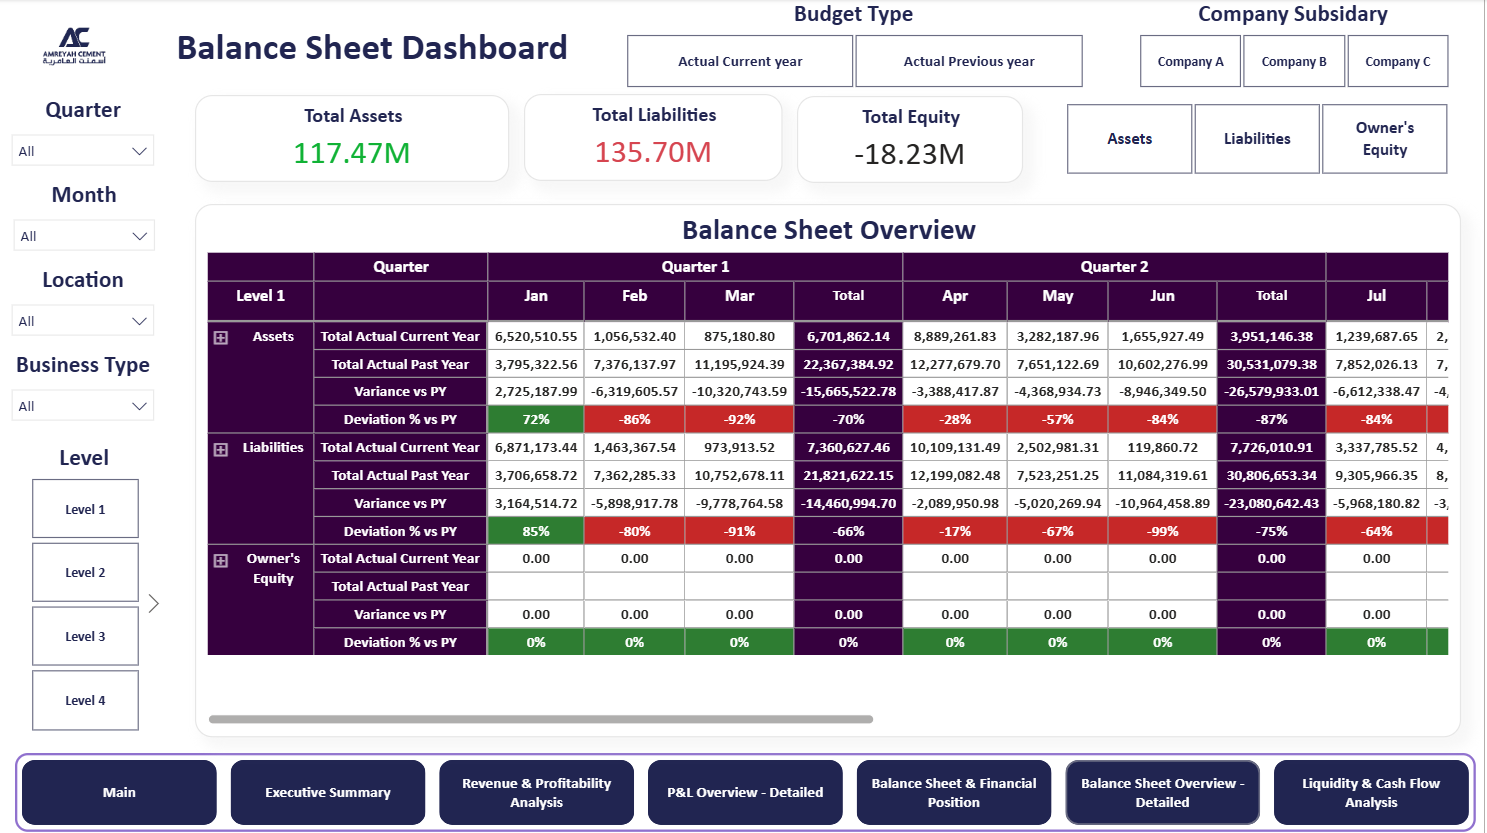

Layout of this report page (visuals, bound fields, positions):
{"tool":"powerbi","page":{"name":"Balance Sheet & Financial Position","canvas":[1280,720],"ordinal":4},"visuals":[{"type":"textbox","box":[127.5,0,387.2,82.4],"z":0,"group":"g1"},{"type":"pageNavigator","title":"Report Pages","box":[13,650,1260,68],"z":0},{"type":"group","id":"g1","title":"Group 1","box":[0,0,514.7,82.4],"z":1000},{"type":"image","box":[0,0,127.5,82.4],"z":1000,"group":"g1"},{"type":"slicer","title":"Budget Type","fields":{"Values":["Budget Type.Name"]},"box":[514.6,0,443,83.1],"z":2000},{"type":"slicer","title":"Company Subsidary","fields":{"Values":["Data Table.Company Subsidary"]},"box":[957.4,0,316,83.3],"z":3000},{"type":"slicer","title":"Quarter","fields":{"Values":["Calendar.Quarter"]},"box":[0,83.1,143.3,73.3],"z":4000},{"type":"slicer","title":"Month","fields":{"Values":["Calendar.MonthName"]},"box":[1.6,156.3,141.7,73.3],"z":5000},{"type":"slicer","title":"Location","fields":{"Values":["Data Table.Location"]},"box":[0,229.6,143.3,73.3],"z":6000},{"type":"slicer","title":"Business  Type","fields":{"Values":["Data Table.Business  Type"]},"box":[0,302.9,143.3,73.3],"z":7000},{"type":"card","title":"Total Assets","fields":{"Values":["Measure.Total Assets"]},"box":[157.6,81.4,247.8,74.4],"z":8000},{"type":"card","title":"Total Liabilities","fields":{"Values":["Measure.Total Liabilities"]},"box":[412.4,81.4,256.5,75.3],"z":9000},{"type":"card","title":"Total Equity","fields":{"Values":["Measure.Total Equity"]},"box":[675,81.4,241.6,75.3],"z":10000},{"type":"slicer","title":"Budget Type","fields":{"Values":["Data Table.Level 1"]},"box":[916.7,83.2,355.5,73.5],"z":12000},{"type":"clusteredColumnChart","title":"Assets vs Liabilities by Month","fields":{"Category":["Calendar.MonthName"],"Y":["Measure.Total Assets","Measure.Total Liabilities"]},"box":[13.1,376.5,1259.9,271.4],"z":13000},{"type":"bookmarkNavigator","box":[1139.9,167.2,133.1,201.4],"z":15000},{"type":"lineChart","title":"Liabilities Breakdown","fields":{"Category":["Calendar.MonthName"],"Series":["Data Table.Level 2"],"Y":["Measure.Liabilities"]},"box":[157.6,167.2,972.7,201.4],"z":16000}]}

Visuals, with their boxes in screenshot pixels (x1, y1, x2, y2), scaled from the page's 1280x720 canvas onto the 1487x833 screenshot:
textbox: select_region(148, 0, 598, 95)
"Report Pages" pageNavigator: select_region(15, 752, 1479, 831)
"Group 1" group: select_region(0, 0, 598, 95)
image: select_region(0, 0, 148, 95)
"Budget Type" slicer: select_region(598, 0, 1112, 96)
"Company Subsidary" slicer: select_region(1112, 0, 1479, 96)
"Quarter" slicer: select_region(0, 96, 166, 181)
"Month" slicer: select_region(2, 181, 166, 266)
"Location" slicer: select_region(0, 266, 166, 350)
"Business  Type" slicer: select_region(0, 350, 166, 435)
"Total Assets" card: select_region(183, 94, 471, 180)
"Total Liabilities" card: select_region(479, 94, 777, 181)
"Total Equity" card: select_region(784, 94, 1065, 181)
"Budget Type" slicer: select_region(1065, 96, 1478, 181)
"Assets vs Liabilities by Month" clusteredColumnChart: select_region(15, 436, 1479, 750)
bookmarkNavigator: select_region(1324, 193, 1479, 426)
"Liabilities Breakdown" lineChart: select_region(183, 193, 1313, 426)
